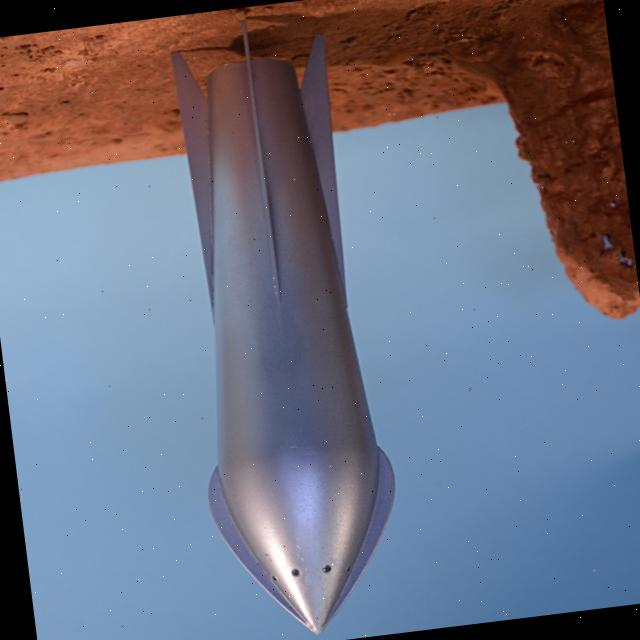rocket: (156, 17, 427, 640)
